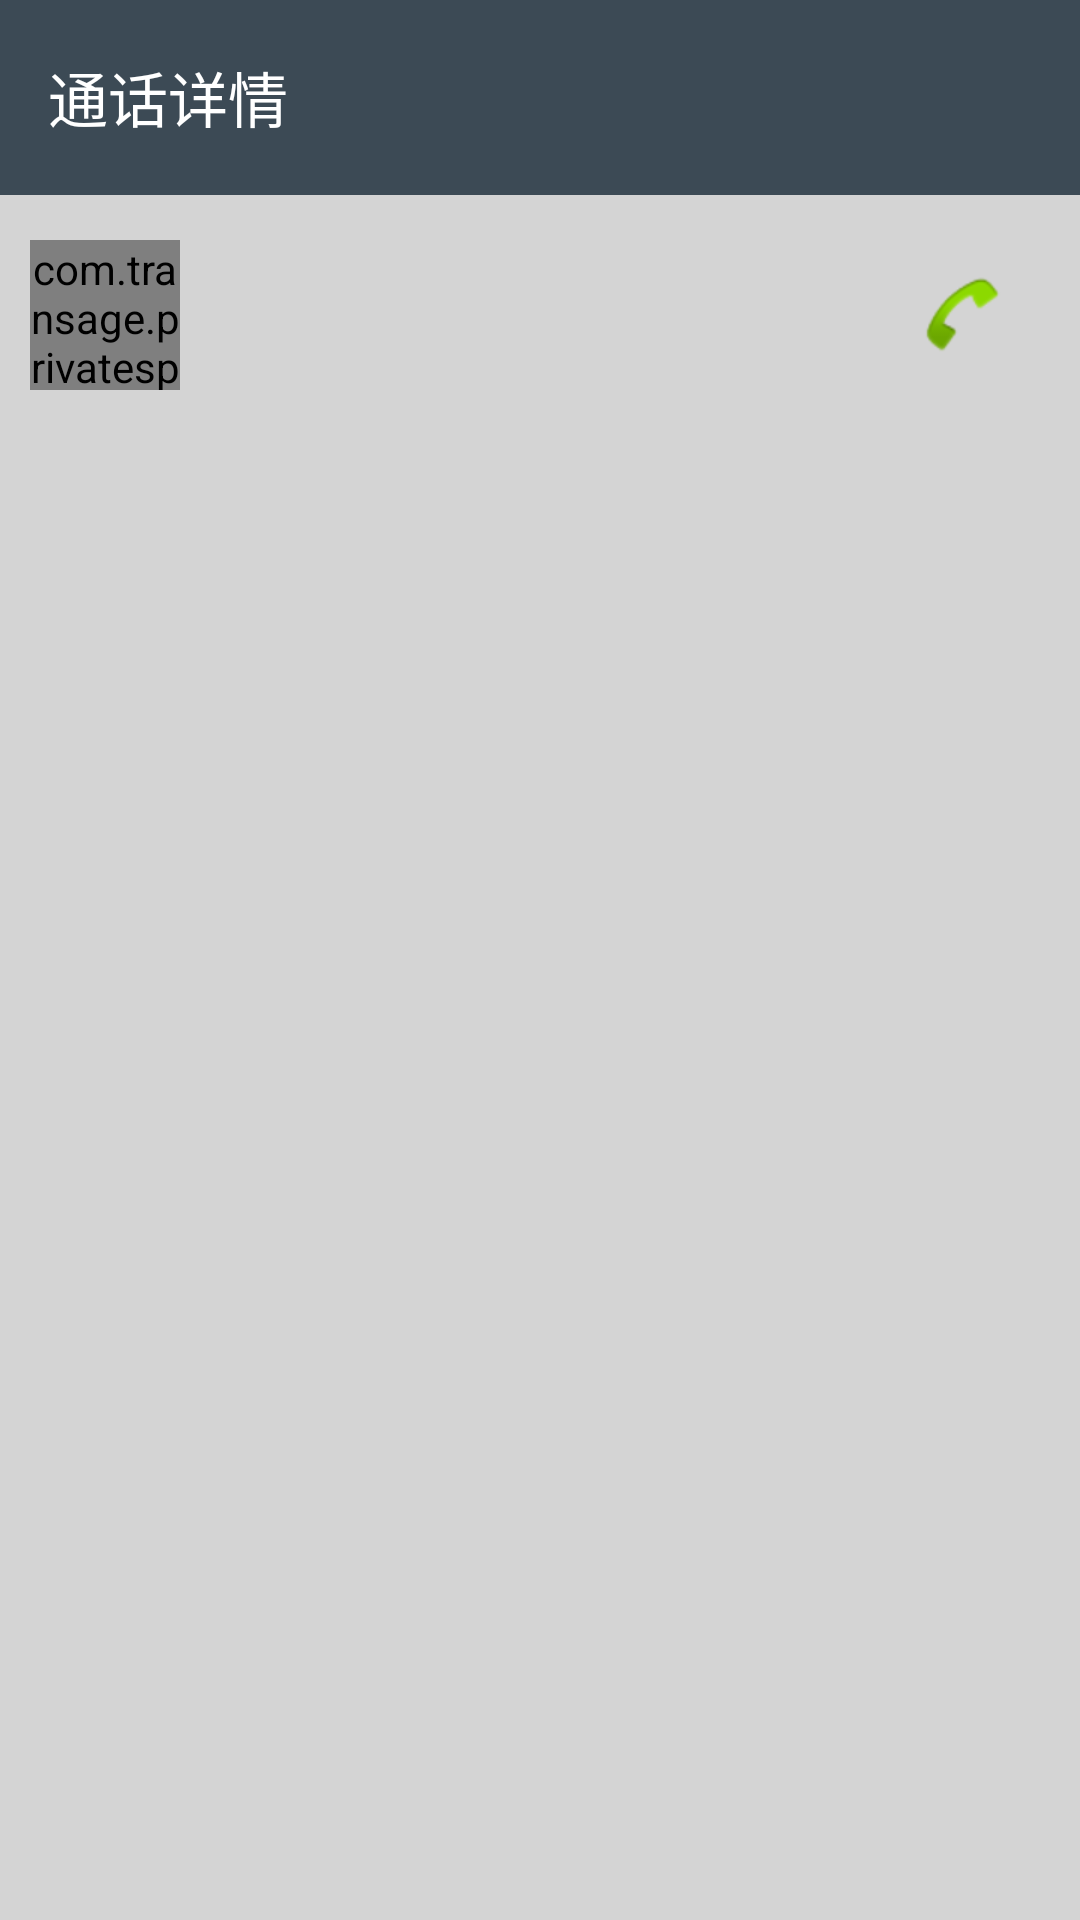

Named icons in this screenshot (1080*1920) and their bounding boxes, bbox=[x1, y1, x2, y2]:
sym action call: bbox=[926, 278, 999, 351]
